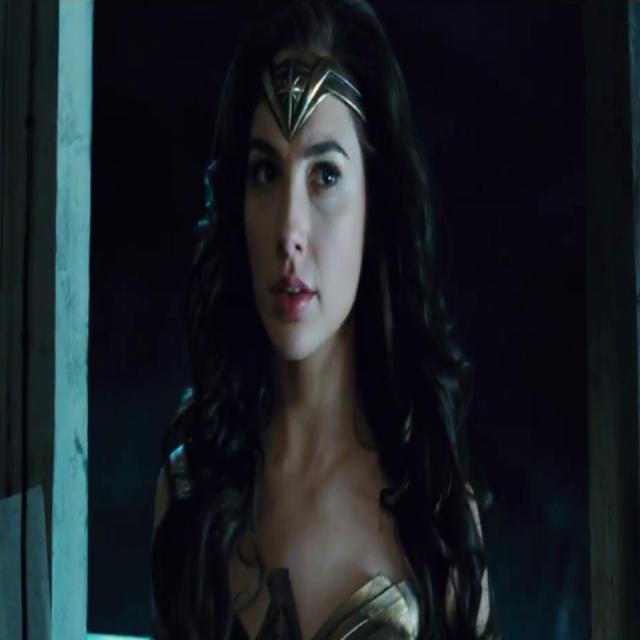mobile_phonerotation: (147, 1, 496, 637)
